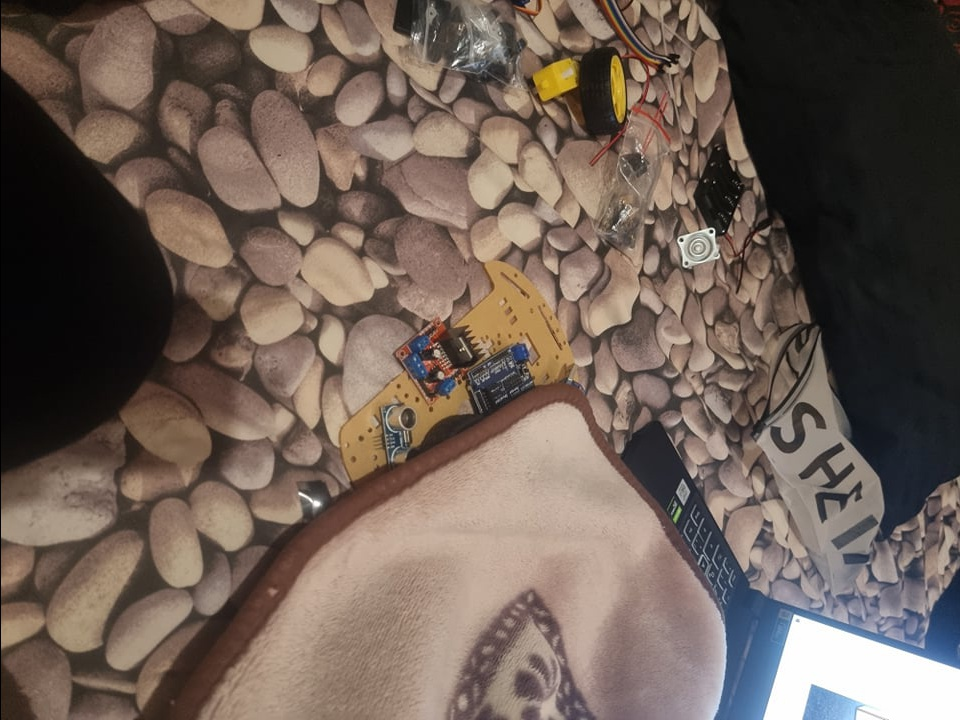5V EXPANSION: (466, 342, 536, 416)
BATTERY BOX: (693, 147, 748, 233)
MOTOR: (392, 316, 482, 401)
SENSOR: (385, 403, 420, 470)
